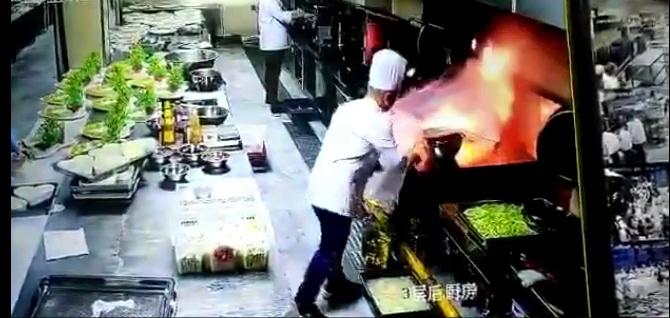fire: (436, 43, 524, 164)
